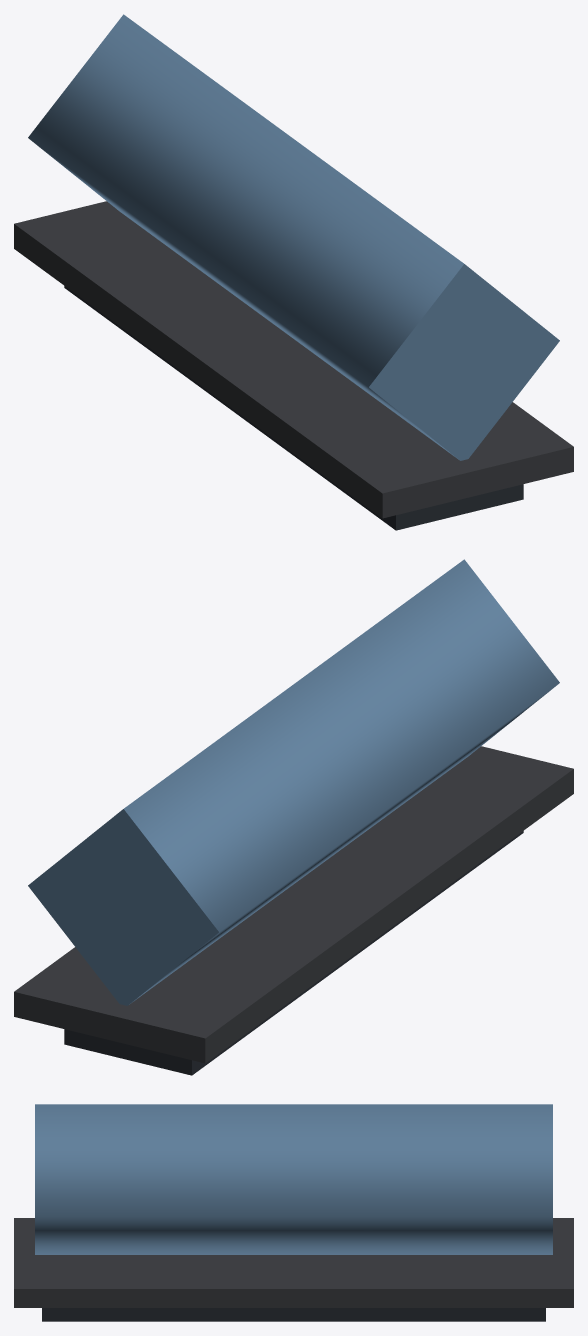
Rendered from veh_ground_rail_wagon_a10_lod2.glb.
The picture shows the model from 3 angles, top to bottom: view 1: azimuth 30°, elevation 25°; view 2: azimuth 150°, elevation 25°; view 3: azimuth 270°, elevation 25°; orthographic projection. The views are drawn at different scales.
Visible parts, largest first — view 1: body; view 2: body; view 3: body.
Part boxes in pixels (bbox=[...]): body: bbox=[14, 14, 573, 530]; body: bbox=[14, 559, 573, 1075]; body: bbox=[14, 1104, 573, 1321].
Size of the model in its own units: 2.4 by 3.1 by 8.
